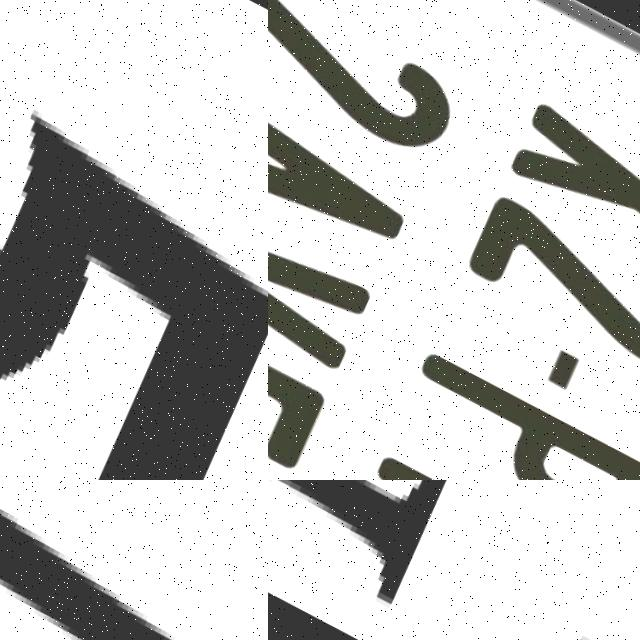2: (453, 182, 640, 387), (268, 0, 470, 168)
5: (0, 0, 268, 480), (268, 276, 327, 476)
A: (268, 62, 418, 274)
G: (268, 480, 640, 640)
P: (381, 345, 640, 480)
R: (0, 480, 268, 640), (329, 447, 609, 480)
V: (268, 167, 371, 375)
X: (491, 92, 640, 291)
